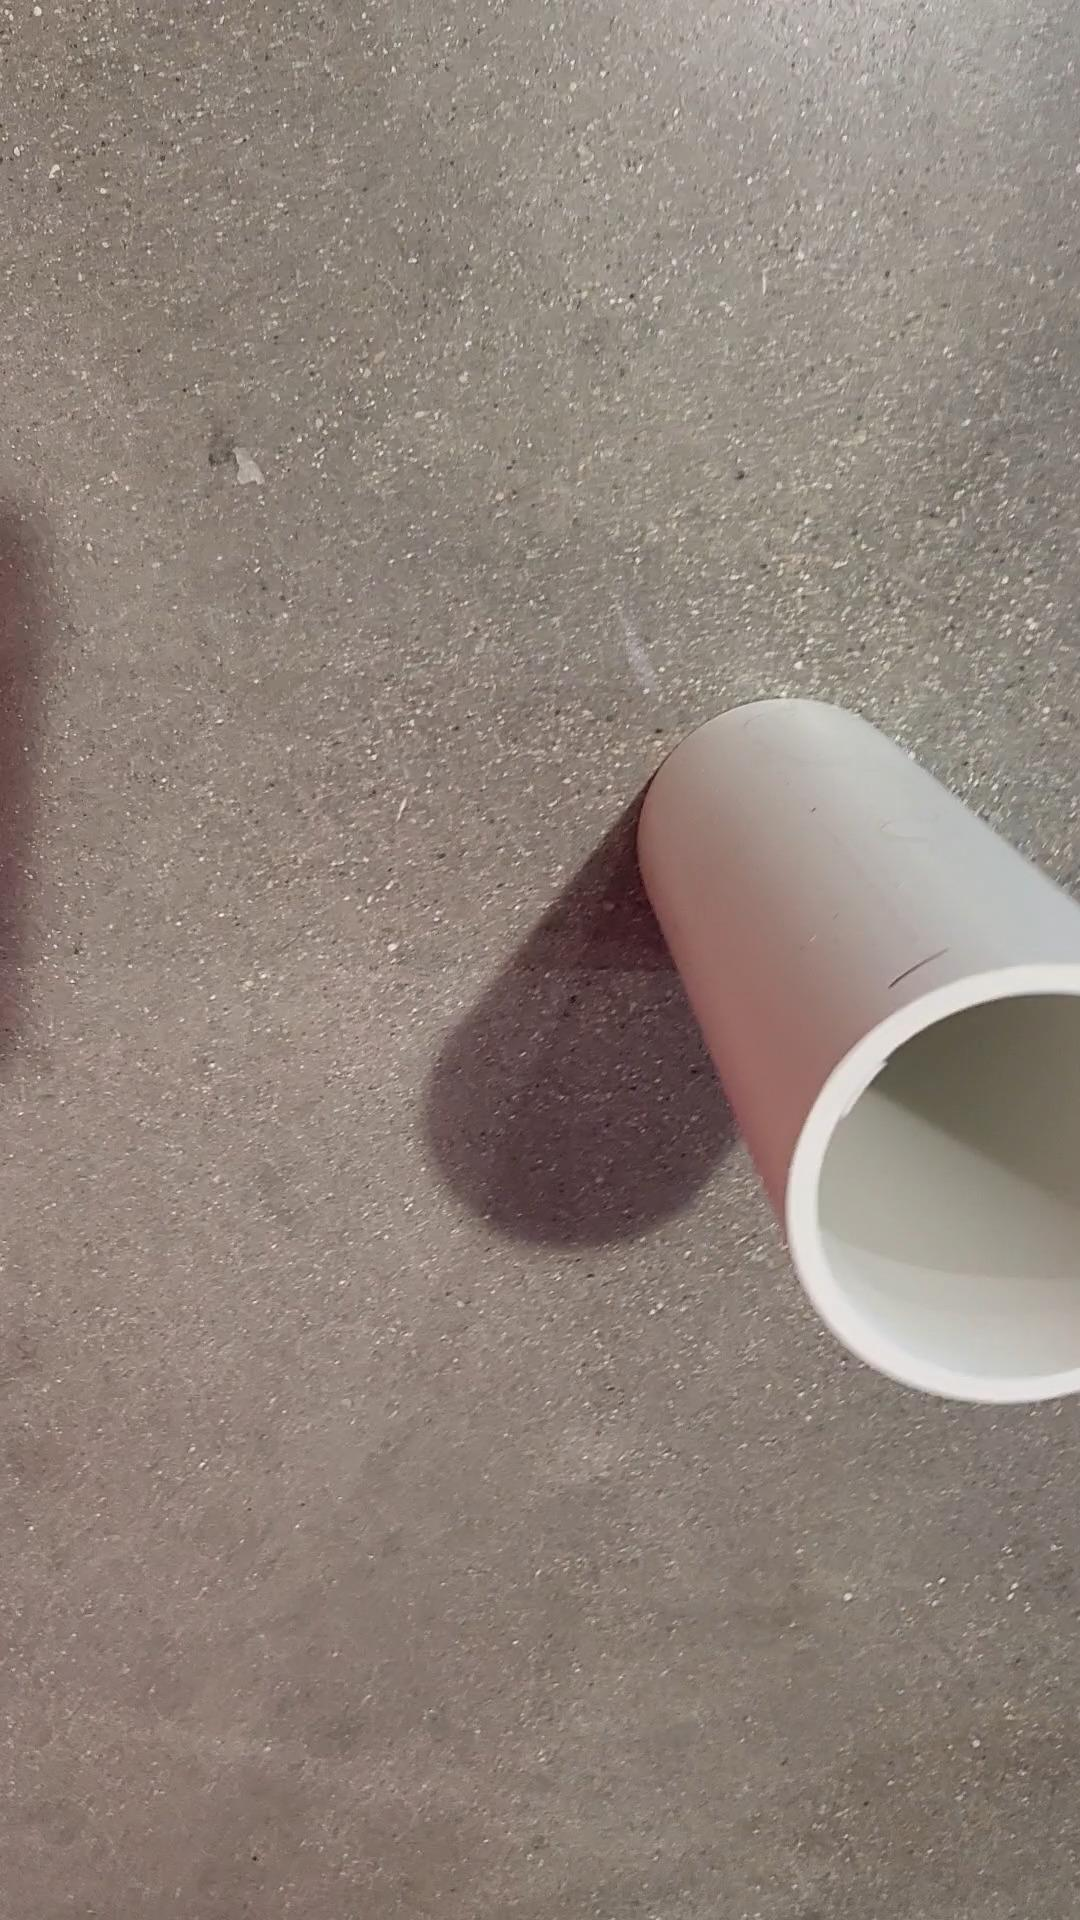coral: (635, 698, 1080, 1400)
